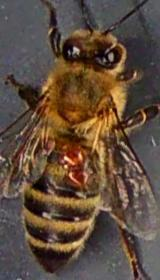varroa_mite: (56, 142, 94, 165), (59, 163, 100, 183)
